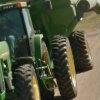Tractor: (7, 3, 93, 96)
